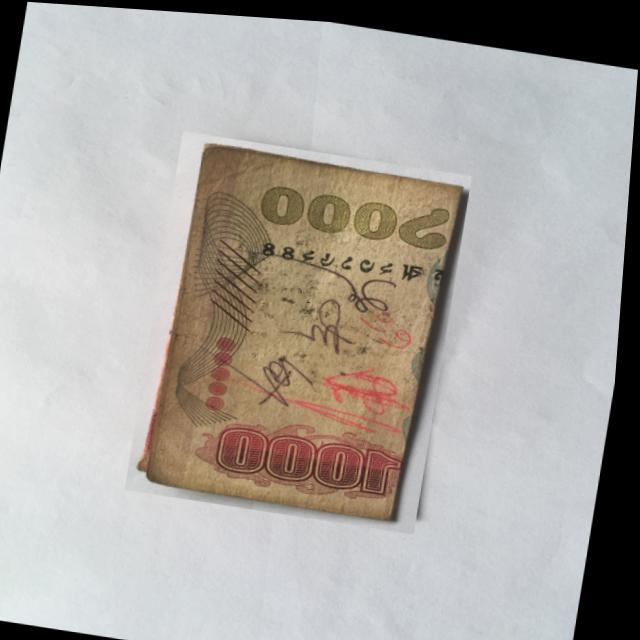Taka: (131, 126, 476, 529)
